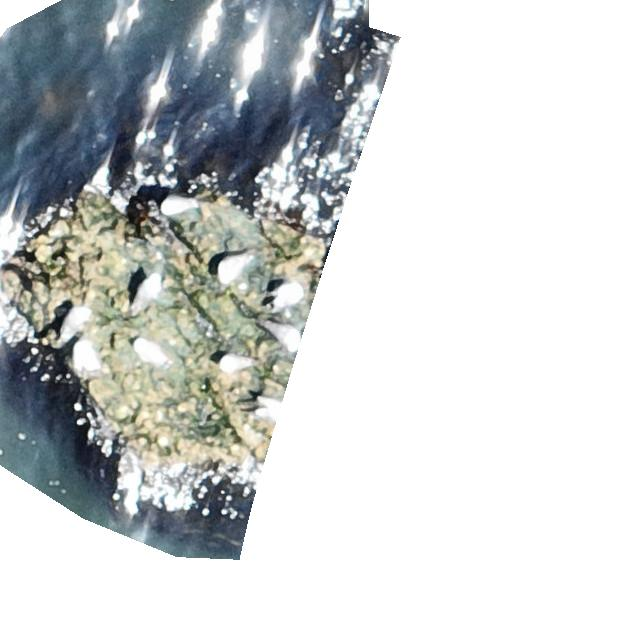umineko: (57, 306, 88, 348), (260, 319, 300, 351), (132, 272, 160, 314), (134, 340, 170, 370), (218, 250, 248, 286), (266, 282, 304, 310), (76, 337, 102, 374), (161, 196, 197, 218), (220, 355, 252, 371)
